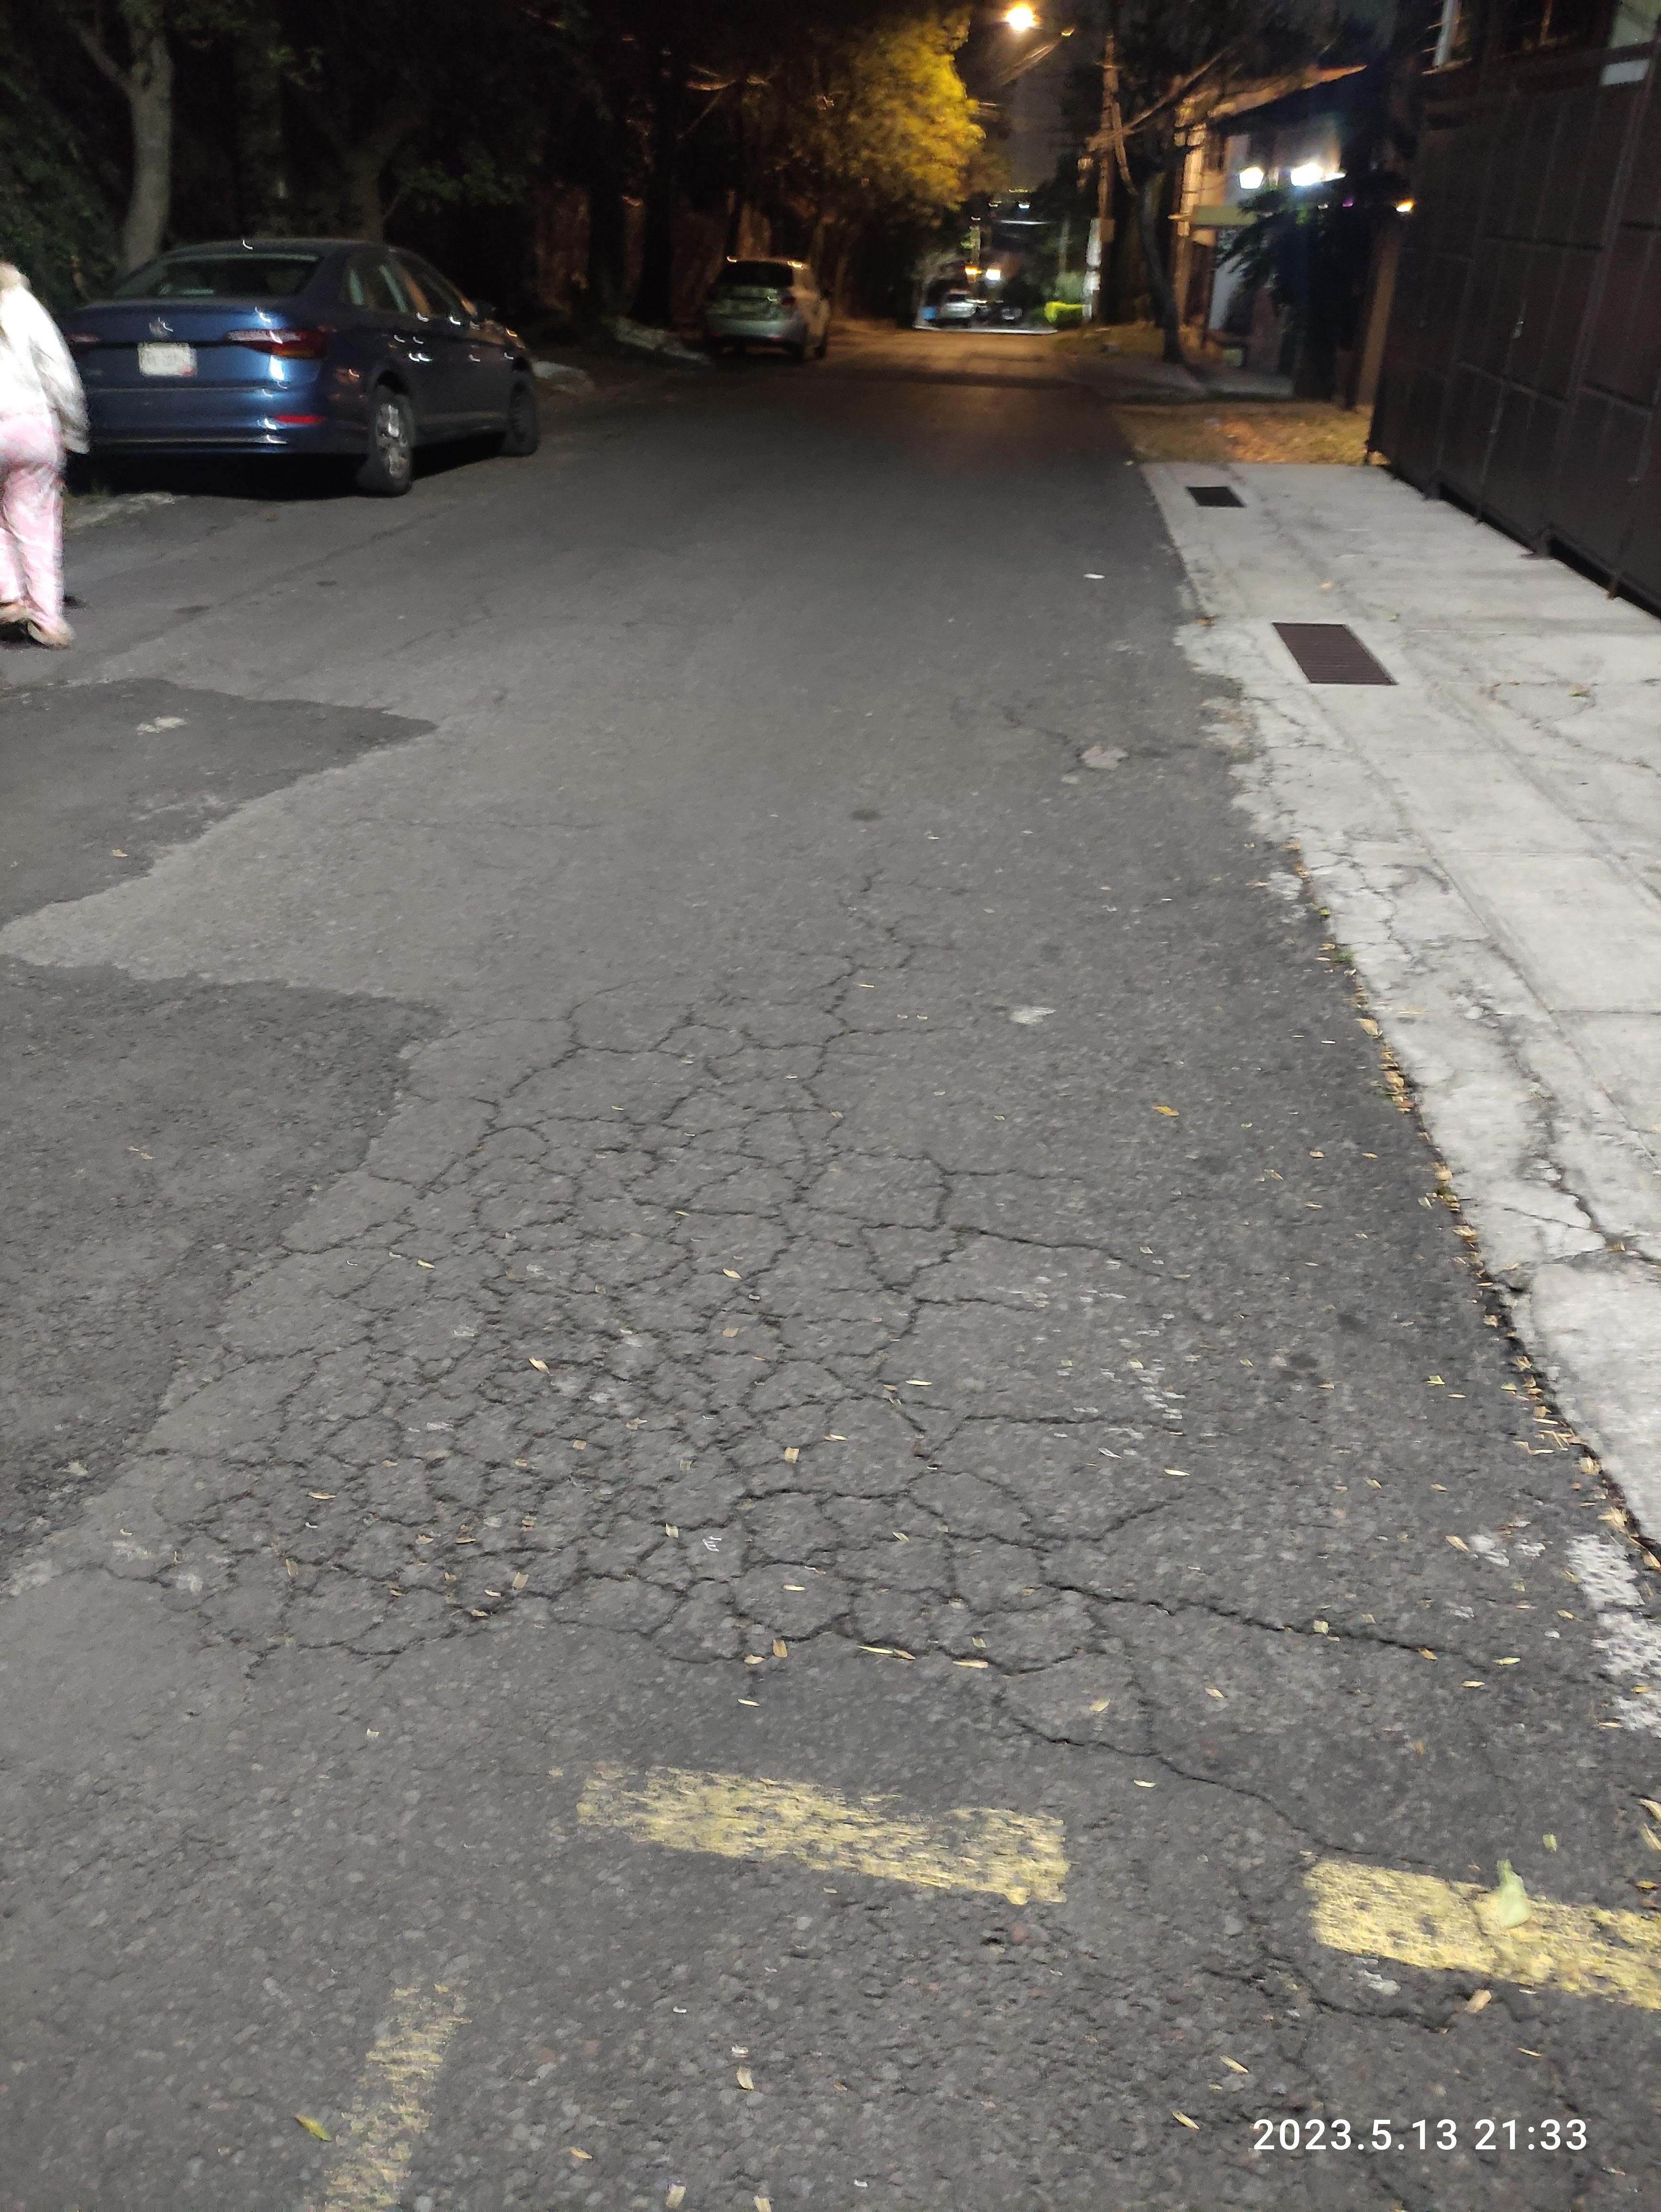alligator-crack: (105, 864, 1446, 1778), (431, 1021, 1328, 1682)
